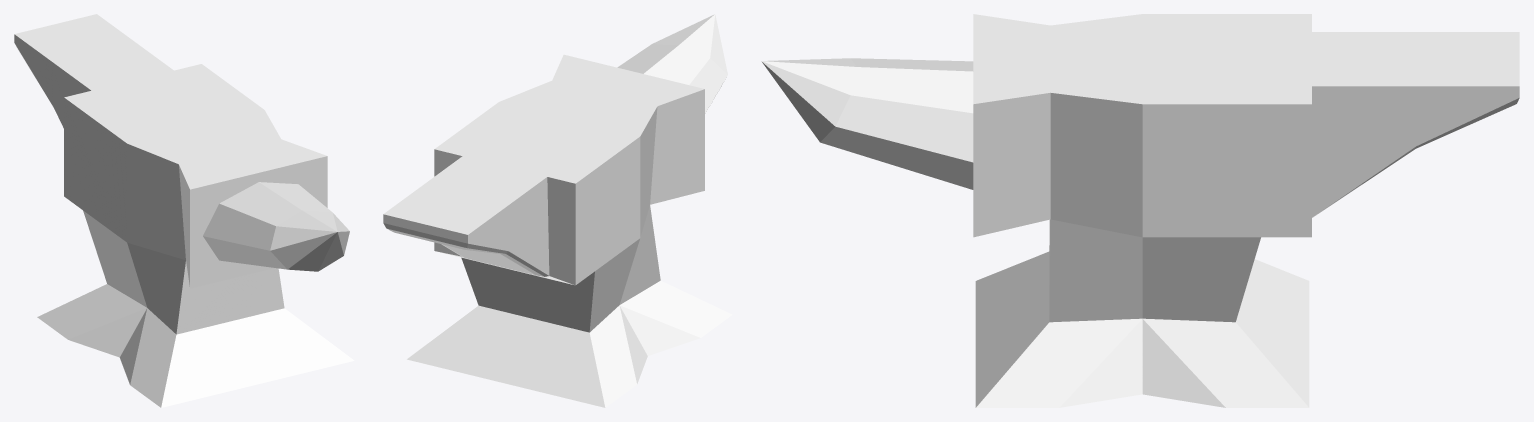
Rendered from Bigorna_Final.fbx.
3 renders of one model, left to right at view 1: azimuth 30°, elevation 25°; view 2: azimuth 150°, elevation 25°; view 3: azimuth 270°, elevation 25°, orthographic. The views are drawn at different scales.
Visible parts, largest first — view 1: Bigorna; view 2: Bigorna; view 3: Bigorna.
Boxes of the visible parts, box(x1,y1,x2,y2) form: Bigorna: box(14, 14, 354, 407); Bigorna: box(383, 14, 732, 407); Bigorna: box(761, 14, 1519, 407).
Size of the model in its own units: 42.2 by 44.21 by 107.
1 material, 1 textured.
